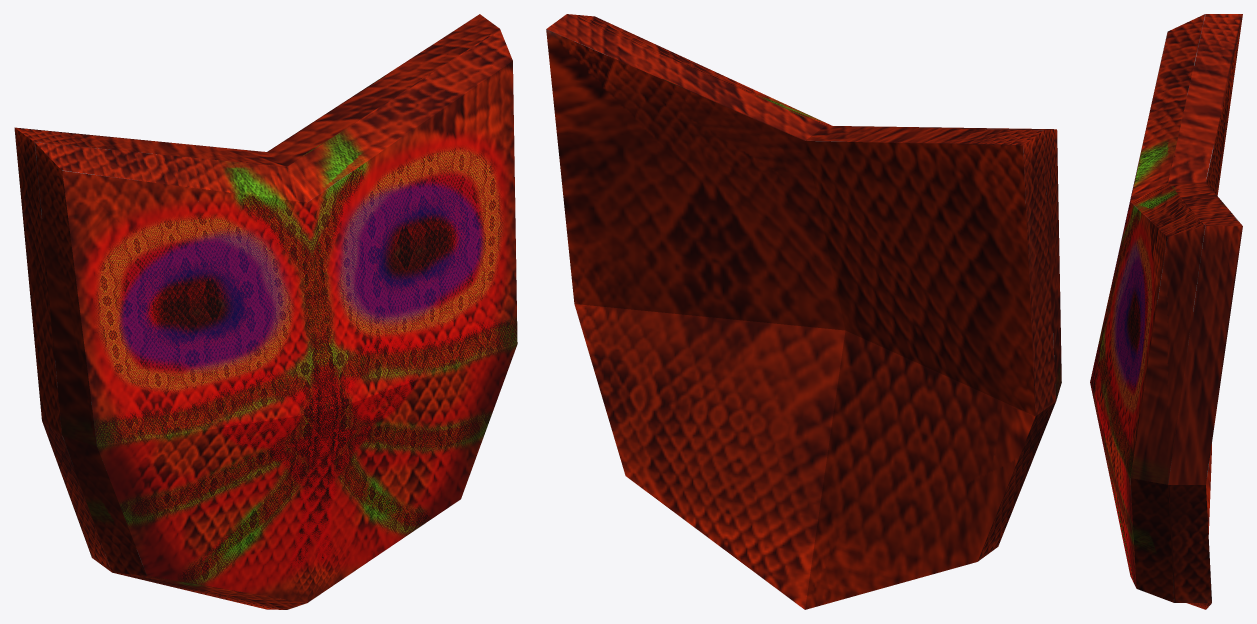
Rendered from simple_mask_1.fbx.
3 views of the same model, side by side, from view 1: azimuth 30°, elevation 25°; view 2: azimuth 150°, elevation 25°; view 3: azimuth 270°, elevation 25° (orthographic). The views are drawn at different scales.
Parts seen in each view (by area): view 1: Cube; view 2: Cube; view 3: Cube.
Part boxes in pixels (bbox=[...]): Cube: bbox=[14, 14, 517, 609]; Cube: bbox=[546, 14, 1061, 609]; Cube: bbox=[1090, 14, 1242, 609].
Size of the model in its own units: 253 by 272 by 76.96.
